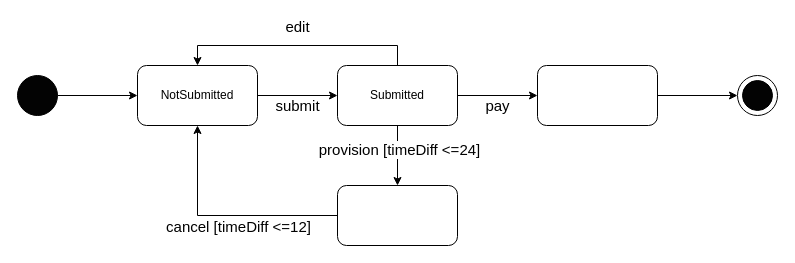
This 795x263 diagram has some shape labels left out. The shapes that lost their labels are listed below. From the top down, each one's box as (x1, y1, x2, y2) in pixels, then its label:
(536, 64, 658, 126): Processed
(336, 184, 458, 246): Provisional
